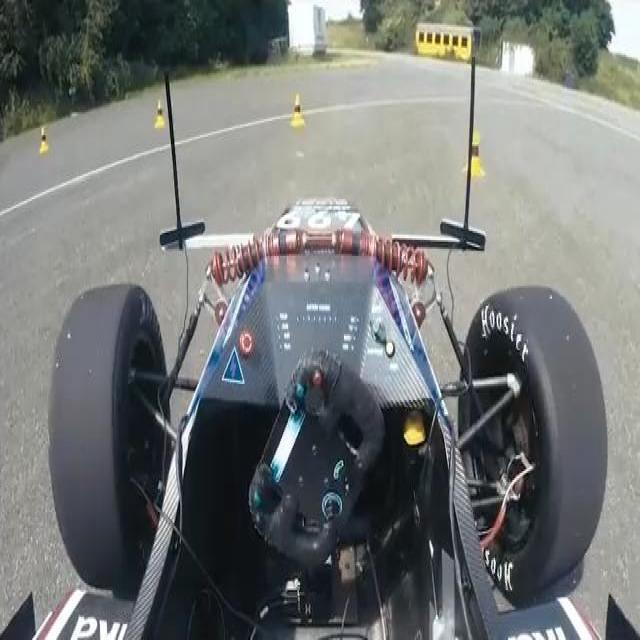yellow_cone: (286, 89, 310, 128), (466, 133, 485, 178), (146, 94, 169, 130), (37, 122, 54, 162)
